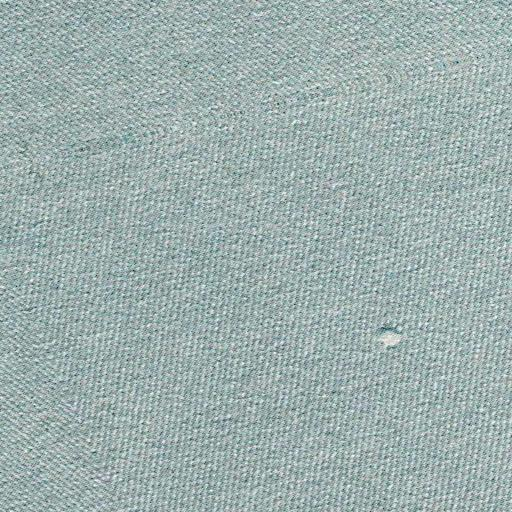knot: (373, 316, 411, 359)
